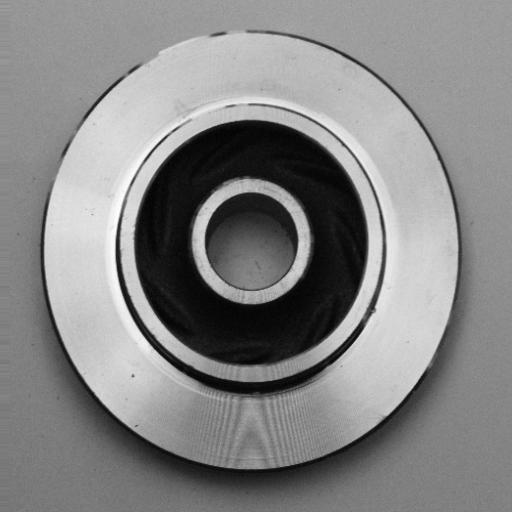scratch: (129, 25, 222, 72), (170, 101, 238, 130)
unpolished_casting: (37, 25, 462, 476)
